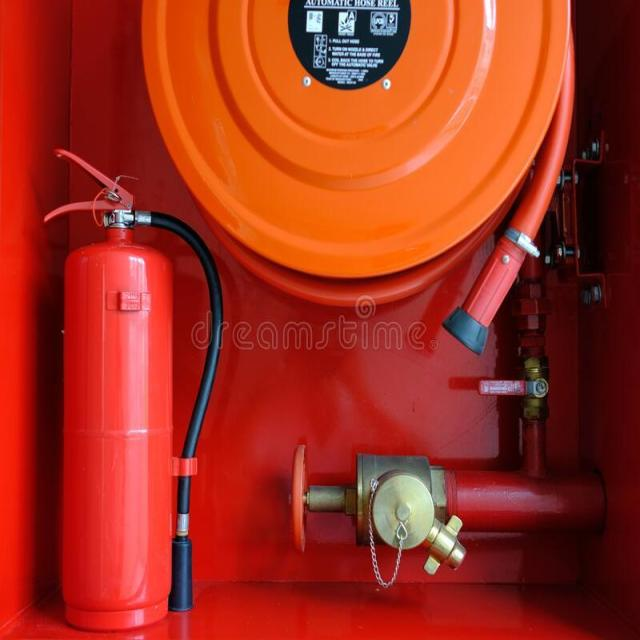fire_extinguisher: (31, 135, 228, 639)
